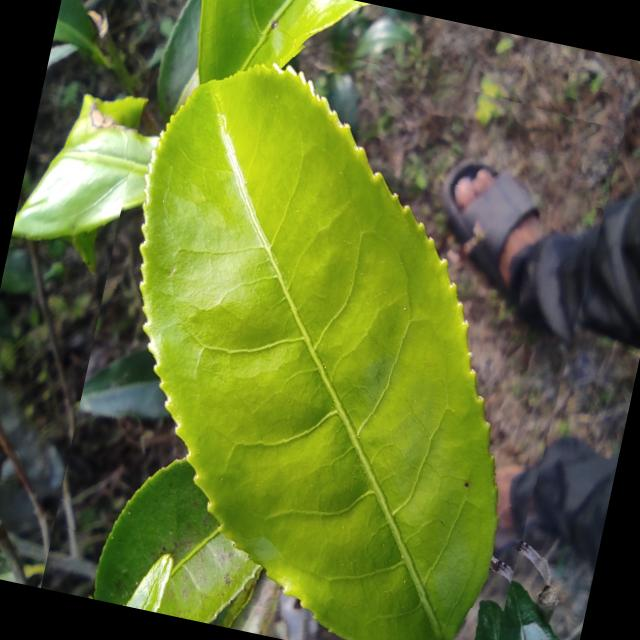Category B 2-4 days: (40, 7, 629, 640)
